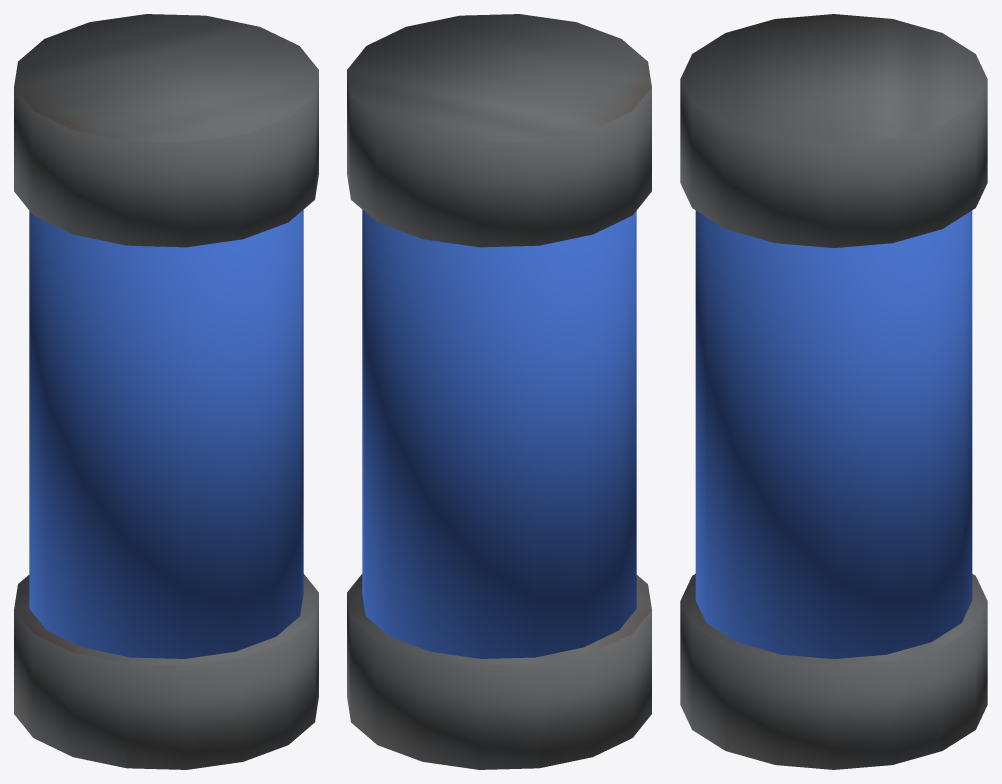
File: SM_Fuse_Blue.fbx
The picture shows the model from 3 angles, left to right: view 1: azimuth 30°, elevation 25°; view 2: azimuth 150°, elevation 25°; view 3: azimuth 270°, elevation 25°; orthographic projection.
Parts seen in each view (by area): view 1: SM_Fuse_Blue; view 2: SM_Fuse_Blue; view 3: SM_Fuse_Blue.
Boxes of the visible parts, bbox=[...] form: SM_Fuse_Blue: bbox=[14, 14, 318, 769]; SM_Fuse_Blue: bbox=[347, 14, 651, 769]; SM_Fuse_Blue: bbox=[680, 14, 987, 769].
Size of what is drawn, in the model's own units: 0.04 by 0.09 by 0.04.
Materials: 2 (1 with a texture image).
